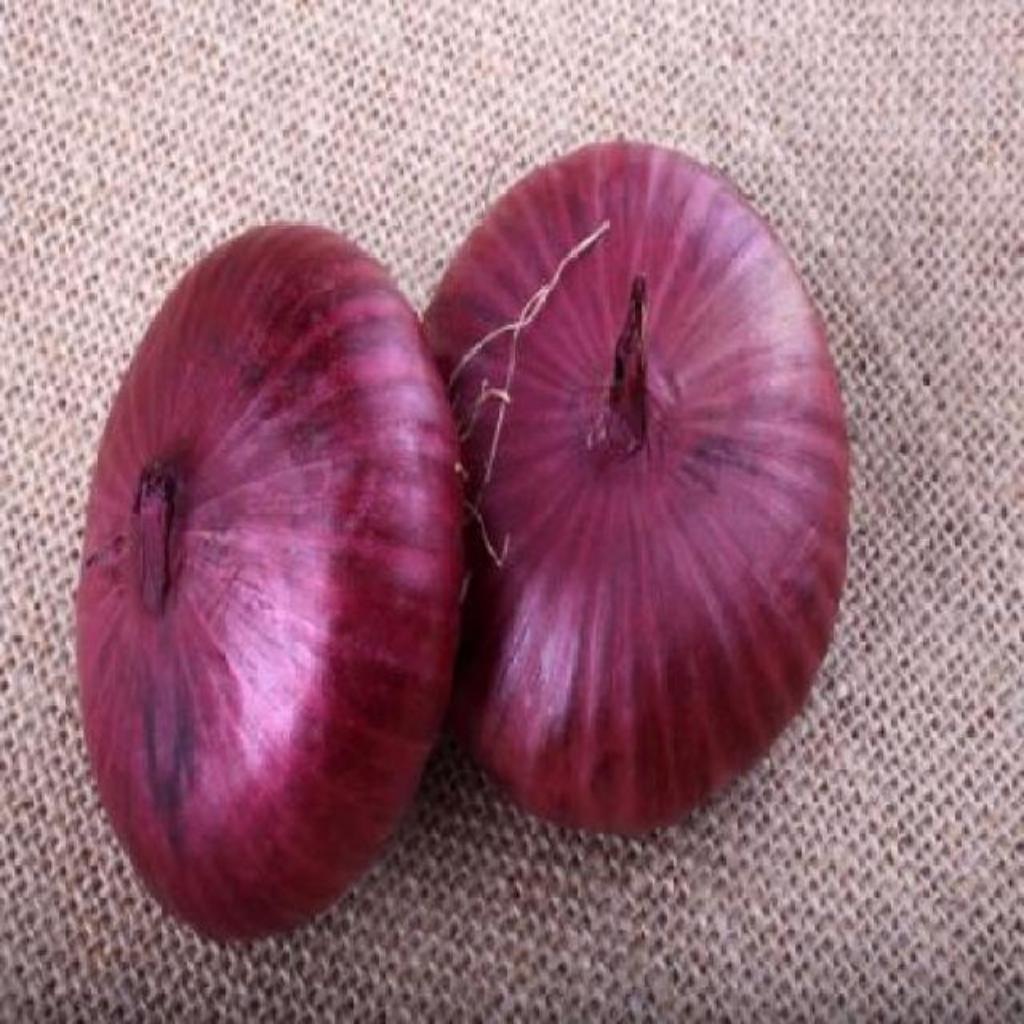Onion: (426, 142, 850, 833), (77, 227, 461, 940)
